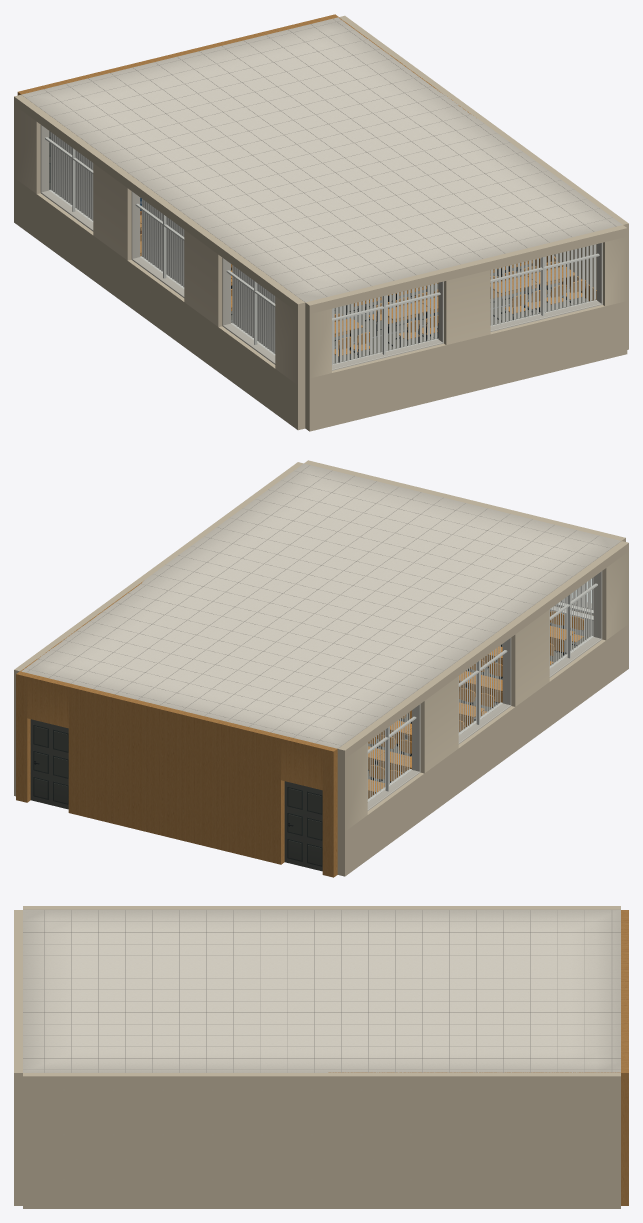
File: room-202.glb
3 renders of one model, top to bottom at view 1: azimuth 30°, elevation 25°; view 2: azimuth 150°, elevation 25°; view 3: azimuth 270°, elevation 25°, orthographic. The views are drawn at different scales.
Parts seen in each view (by area): view 1: 202 / Suspended acoustic ceiling / Acoustic ceiling tile, 202 / Walls and windows / Warm mineral wall finish, 202 / Walls and windows / Ivory textile vertical blinds, 202 / Suspended acoustic ceiling / Ceiling T-grid, 202 / Walls and windows / Window reveal, 202 / Walls and windows / Ivory painted metal, 202 / Interior architecture, 202 / Walls and windows / Reconstructed HD oak veneer; view 2: 202 / Suspended acoustic ceiling / Acoustic ceiling tile, 202 / Walls and windows / Reconstructed HD oak veneer, 202 / Walls and windows / Warm mineral wall finish, 202 / Suspended acoustic ceiling / Ceiling T-grid, 202 / Walls and windows / Ivory textile vertical blinds, 202 / Walls and windows / Window reveal, 202 / Walls and windows / Ivory painted metal, Левая дверь / Recessed grey door panel, Правая дверь / Recessed grey door panel, Левая дверь / Painted grey door, Правая дверь / Painted grey door, Левая дверь / Door panel reveal (+2 smaller); view 3: 202 / Suspended acoustic ceiling / Acoustic ceiling tile, 202 / Walls and windows / Warm mineral wall finish, 202 / Suspended acoustic ceiling / Ceiling T-grid, 202 / Walls and windows / Reconstructed HD oak veneer.
Boxes of the visible parts, x1,y1,x2,y2 form: 202 / Suspended acoustic ceiling / Acoustic ceiling tile: (22, 17, 622, 302); 202 / Walls and windows / Warm mineral wall finish: (14, 15, 628, 431); 202 / Walls and windows / Ivory textile vertical blinds: (50, 132, 596, 364); 202 / Suspended acoustic ceiling / Ceiling T-grid: (21, 19, 616, 302); 202 / Walls and windows / Window reveal: (40, 125, 602, 370); 202 / Walls and windows / Ivory painted metal: (45, 137, 599, 364); 202 / Interior architecture: (140, 211, 589, 363); 202 / Walls and windows / Reconstructed HD oak veneer: (17, 14, 596, 301); 202 / Suspended acoustic ceiling / Acoustic ceiling tile: (21, 463, 620, 748); 202 / Walls and windows / Reconstructed HD oak veneer: (16, 581, 337, 877); 202 / Walls and windows / Warm mineral wall finish: (14, 460, 628, 876); 202 / Suspended acoustic ceiling / Ceiling T-grid: (24, 465, 621, 748); 202 / Walls and windows / Ivory textile vertical blinds: (367, 577, 593, 799); 202 / Walls and windows / Window reveal: (367, 571, 602, 810); 202 / Walls and windows / Ivory painted metal: (367, 583, 597, 801); Левая дверь / Recessed grey door panel: (288, 788, 321, 865); Правая дверь / Recessed grey door panel: (34, 726, 67, 803); Левая дверь / Painted grey door: (284, 781, 322, 871); Правая дверь / Painted grey door: (30, 719, 68, 809); Левая дверь / Door panel reveal: (287, 786, 322, 866); 202 / Suspended acoustic ceiling / Acoustic ceiling tile: (23, 910, 620, 1072); 202 / Walls and windows / Warm mineral wall finish: (14, 906, 620, 1208); 202 / Suspended acoustic ceiling / Ceiling T-grid: (23, 909, 620, 1072); 202 / Walls and windows / Reconstructed HD oak veneer: (328, 910, 628, 1205).
Bounding box in the file's own units: 8.93 × 3.25 × 13.65.
Materials: 95 (14 with a texture image).
